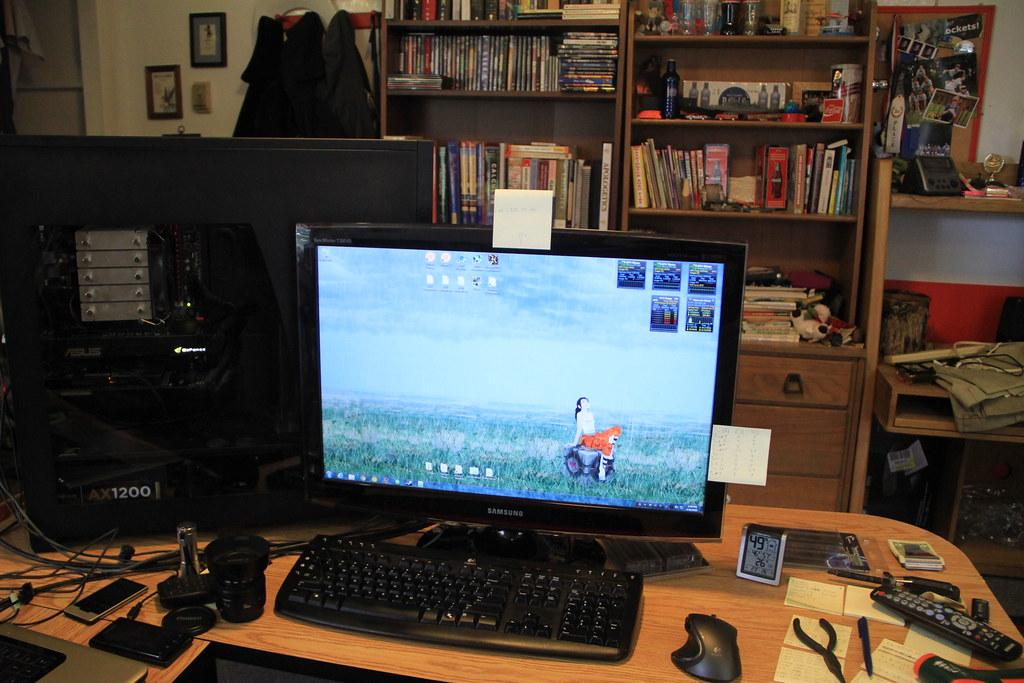computer: (1, 132, 436, 552), (295, 220, 750, 581)
